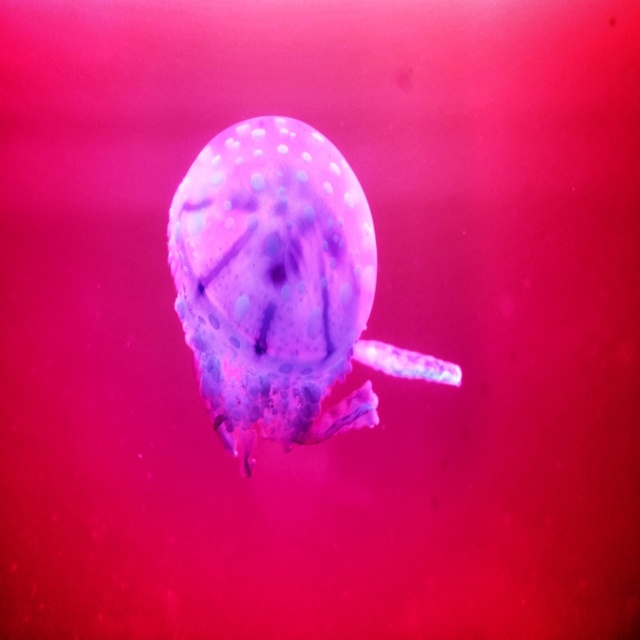Jellyfish: (186, 98, 460, 474)
